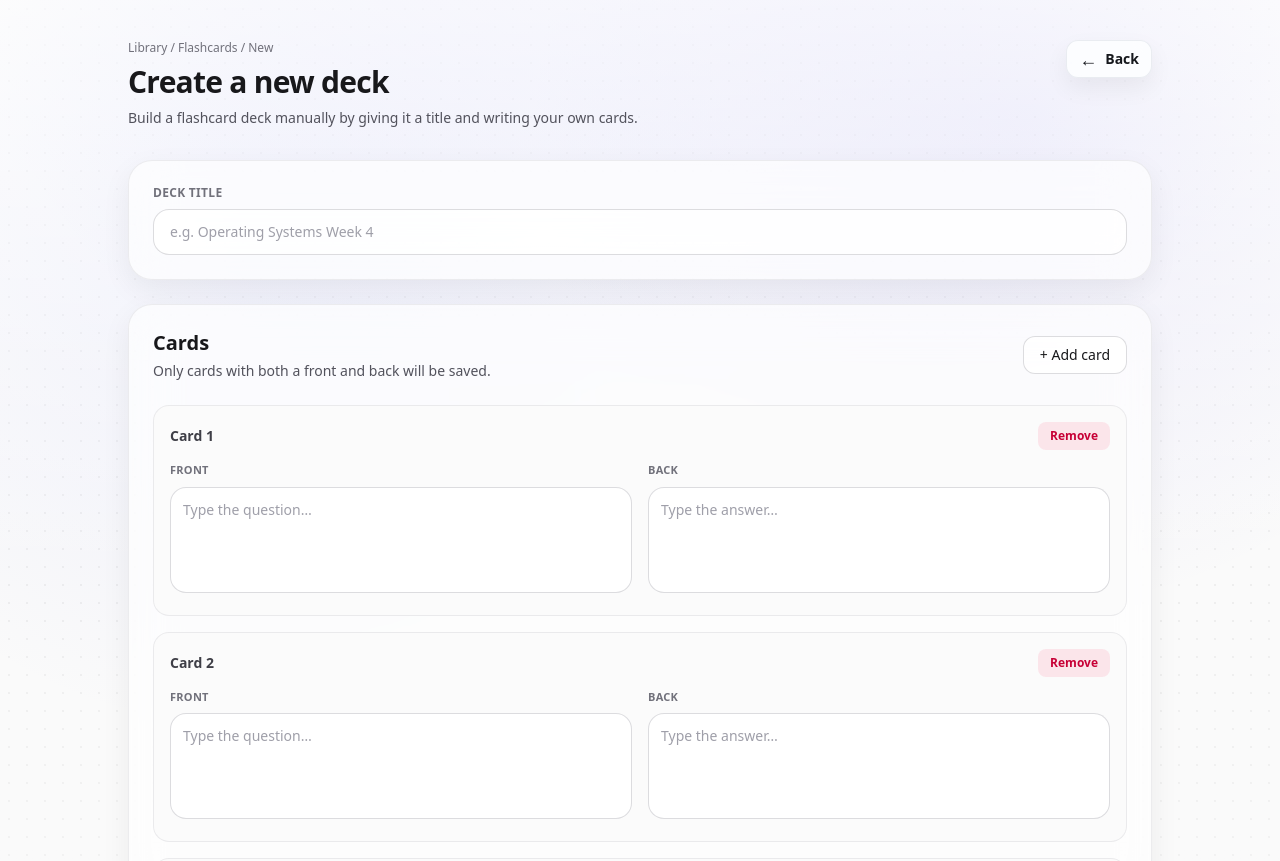
NewDeckPage › shows an error if deck creation fails
Type "Q1" into the 1st text box with placeholder "Type the question…" at (401, 540), box [170,486,632,592]
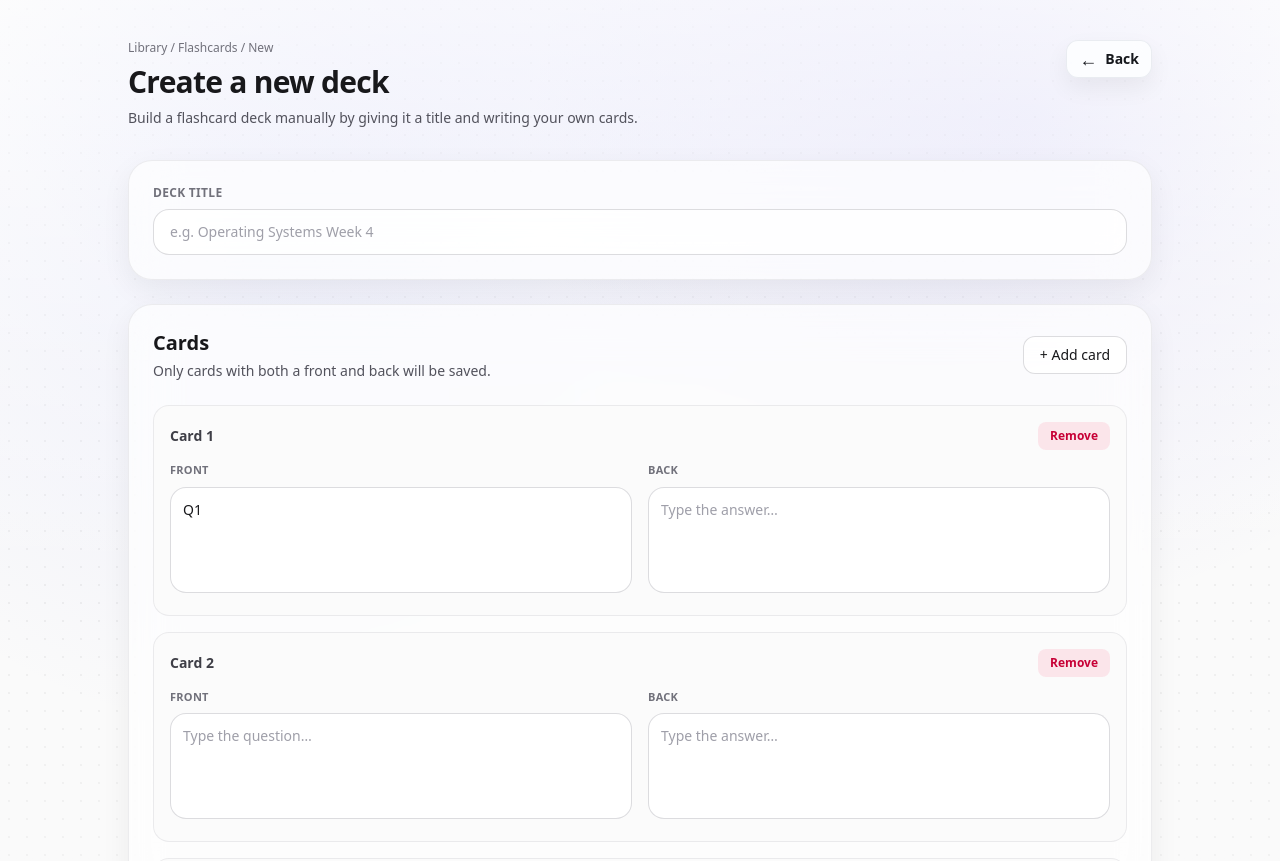
Type "A1" into the 1st text box with placeholder "Type the answer…" at (879, 540), box [648,486,1110,592]
(page scrolled)
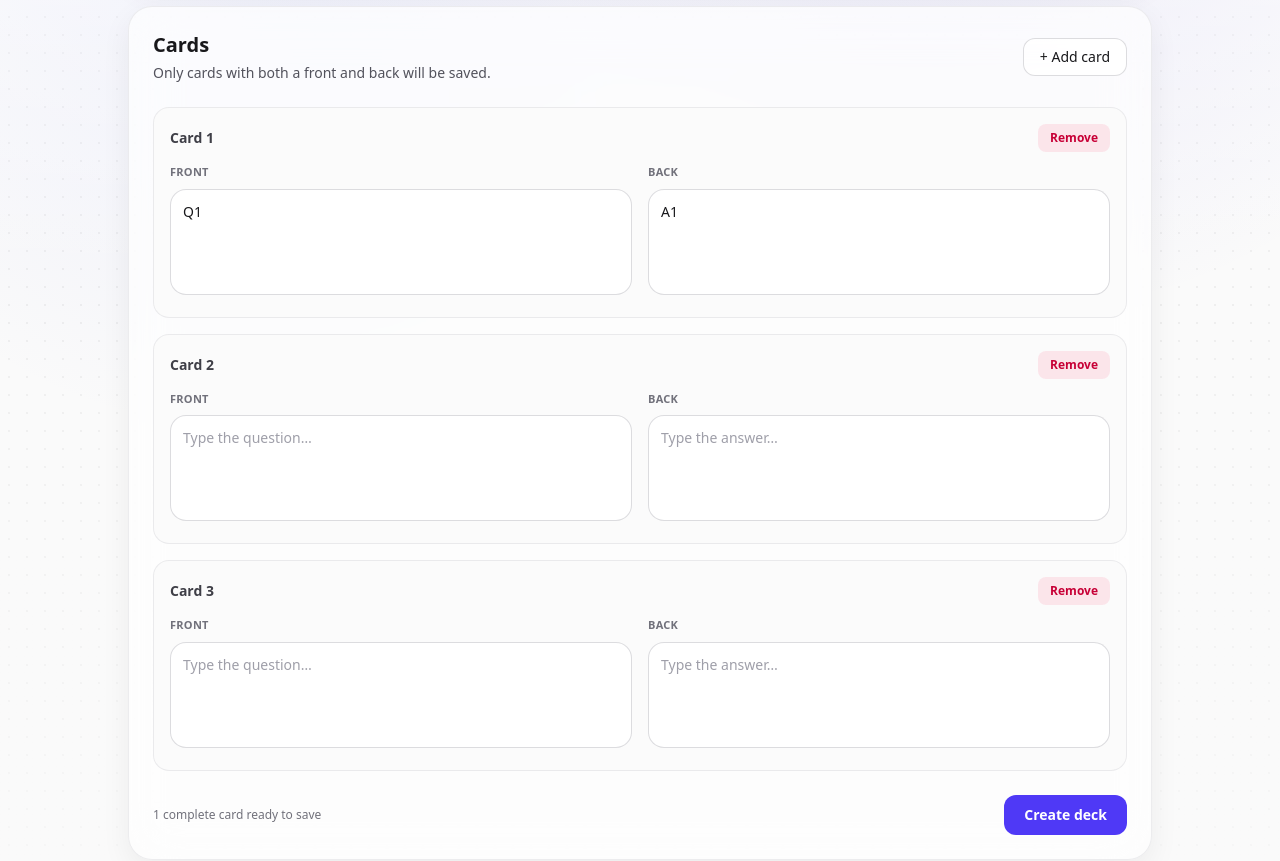
Click the button "Create deck" at (1066, 814), box [1004,794,1127,834]
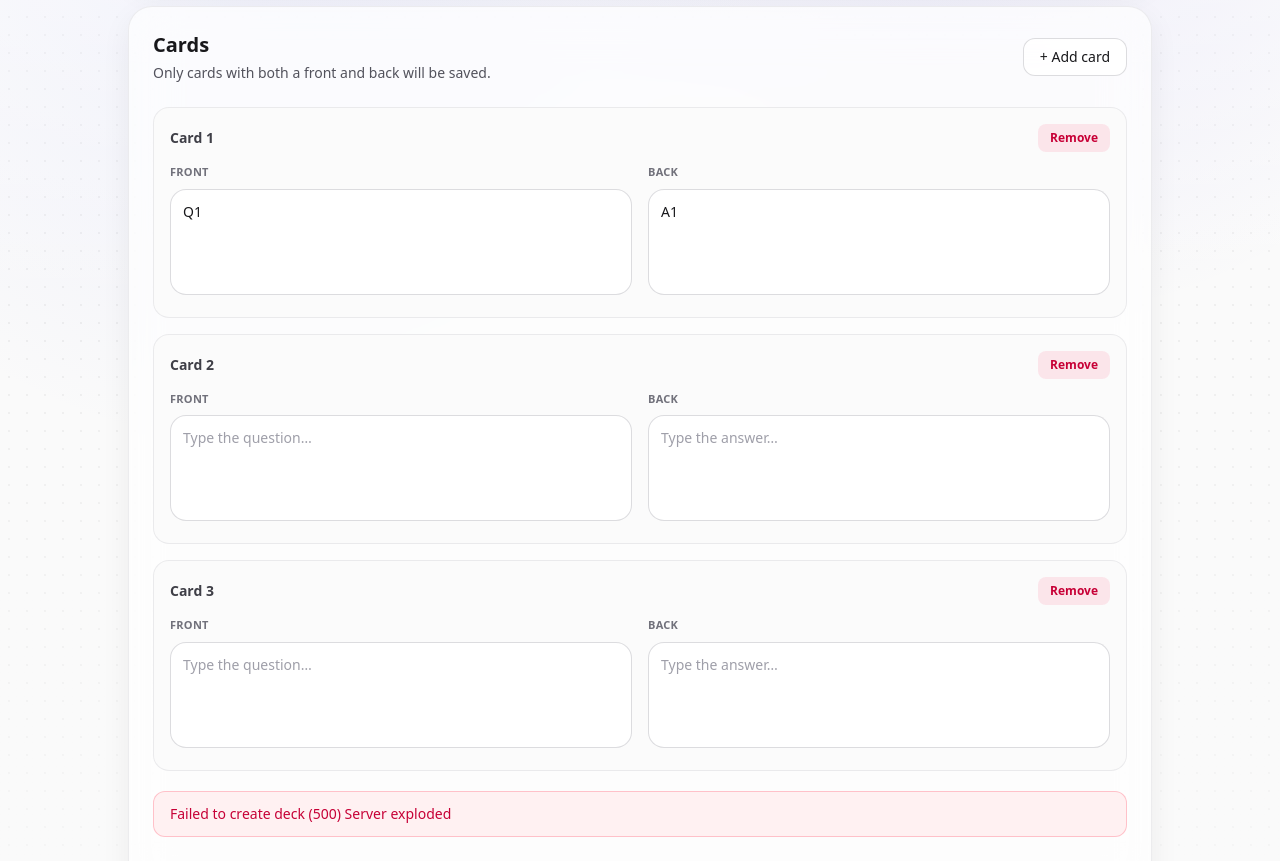
expect the text "Failed to create deck (500) Server exploded" is shown: met, box [153,790,1127,836]
